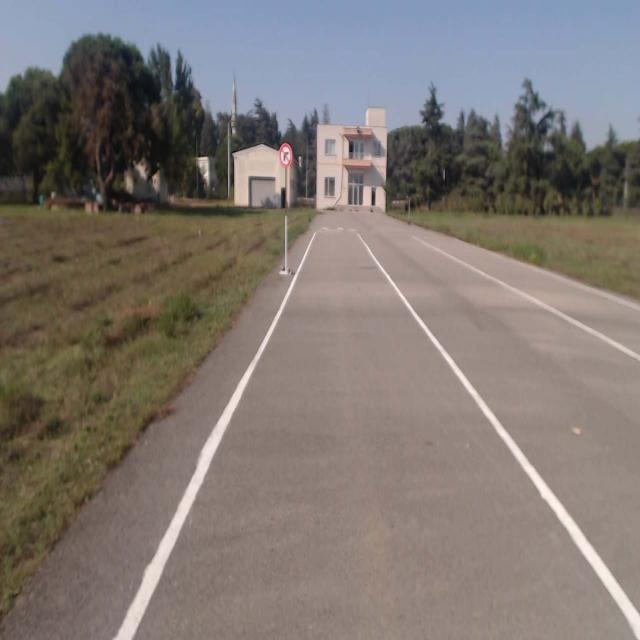sagadonulmez: (279, 142, 292, 166)
